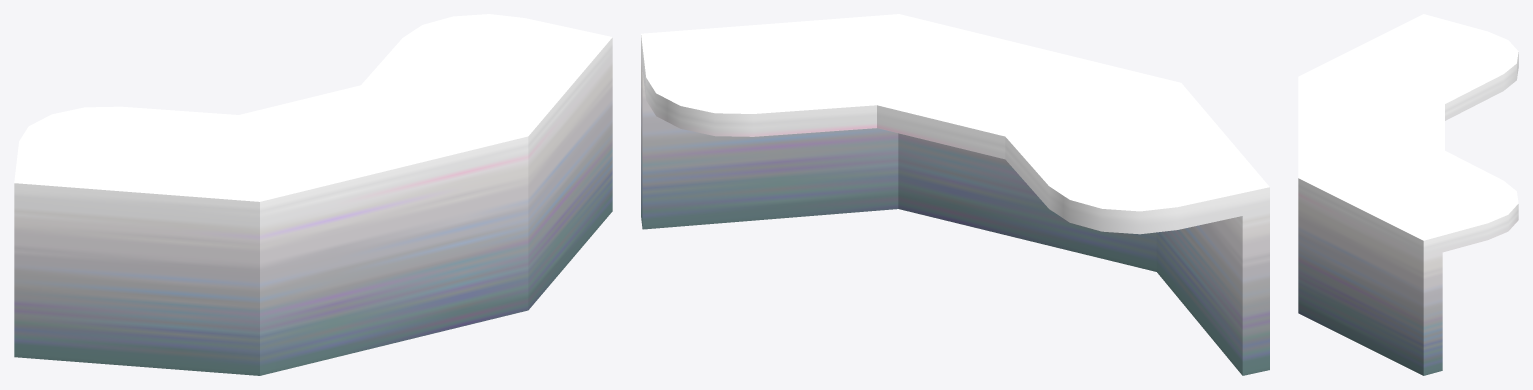
The model's file is 09669bc7-301c-44e0-9258-4909c8dffe0d.glb.
3 renders of one model, left to right at view 1: azimuth 30°, elevation 25°; view 2: azimuth 150°, elevation 25°; view 3: azimuth 270°, elevation 25°, orthographic. The views are drawn at different scales.
Visible parts, largest first — view 1: CommandCenterLikeFurnitureTable; view 2: CommandCenterLikeFurnitureTable; view 3: CommandCenterLikeFurnitureTable.
Boxes of the visible parts, x1=… form: CommandCenterLikeFurnitureTable: x1=14, y1=14, x2=612, y2=375; CommandCenterLikeFurnitureTable: x1=641, y1=14, x2=1269, y2=375; CommandCenterLikeFurnitureTable: x1=1298, y1=14, x2=1518, y2=375.
Size of what is drawn, in the model's own units: 3.87 by 1.08 by 1.59.
Materials: 1 (1 with a texture image).
